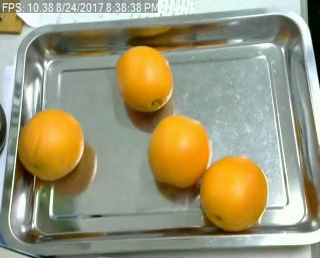Orange: (200, 155, 267, 230), (19, 108, 84, 180), (148, 113, 210, 186), (116, 45, 174, 113)
